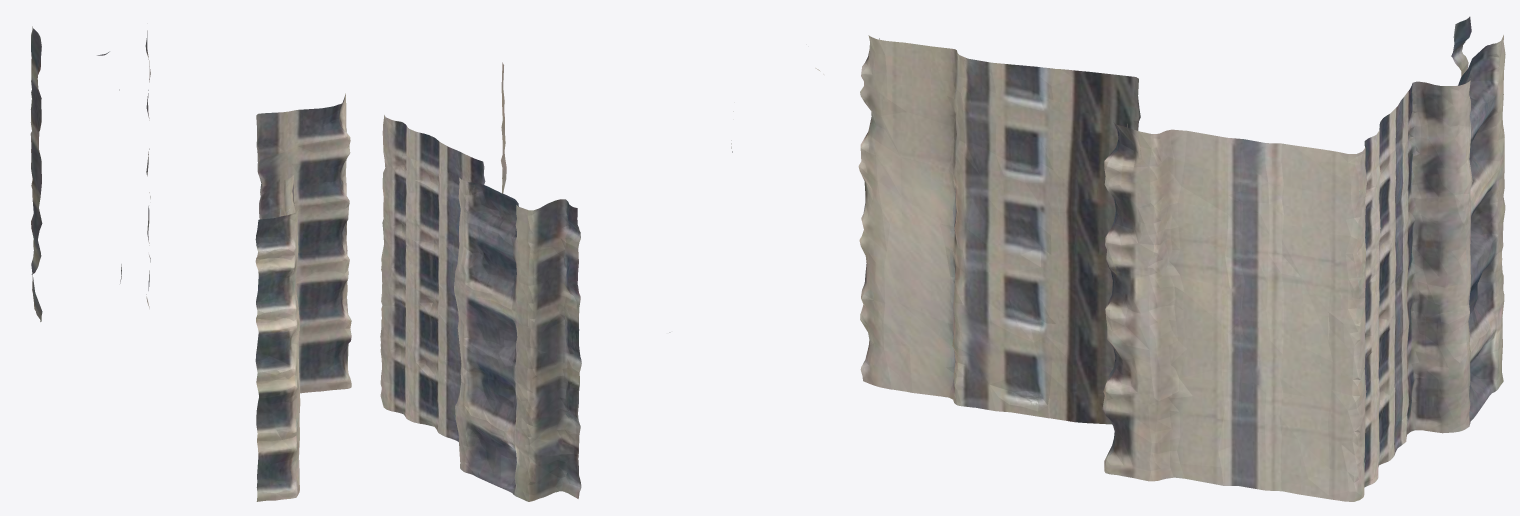
Rendered from Tile__005__001_L22_00000010.glb.
3 renders of one model, left to right at view 1: azimuth 30°, elevation 25°; view 2: azimuth 150°, elevation 25°; view 3: azimuth 270°, elevation 25°, orthographic. The views are drawn at different scales.
Visible parts, largest first — view 1: root; view 2: root; view 3: root.
Boxes of the visible parts, x1,y1,x2,y2 form: root: (30, 26, 351, 501); root: (380, 62, 823, 501); root: (858, 16, 1505, 501).
Size of the model in its own units: 9.04 by 10.29 by 17.4.
1 material, 1 textured.
